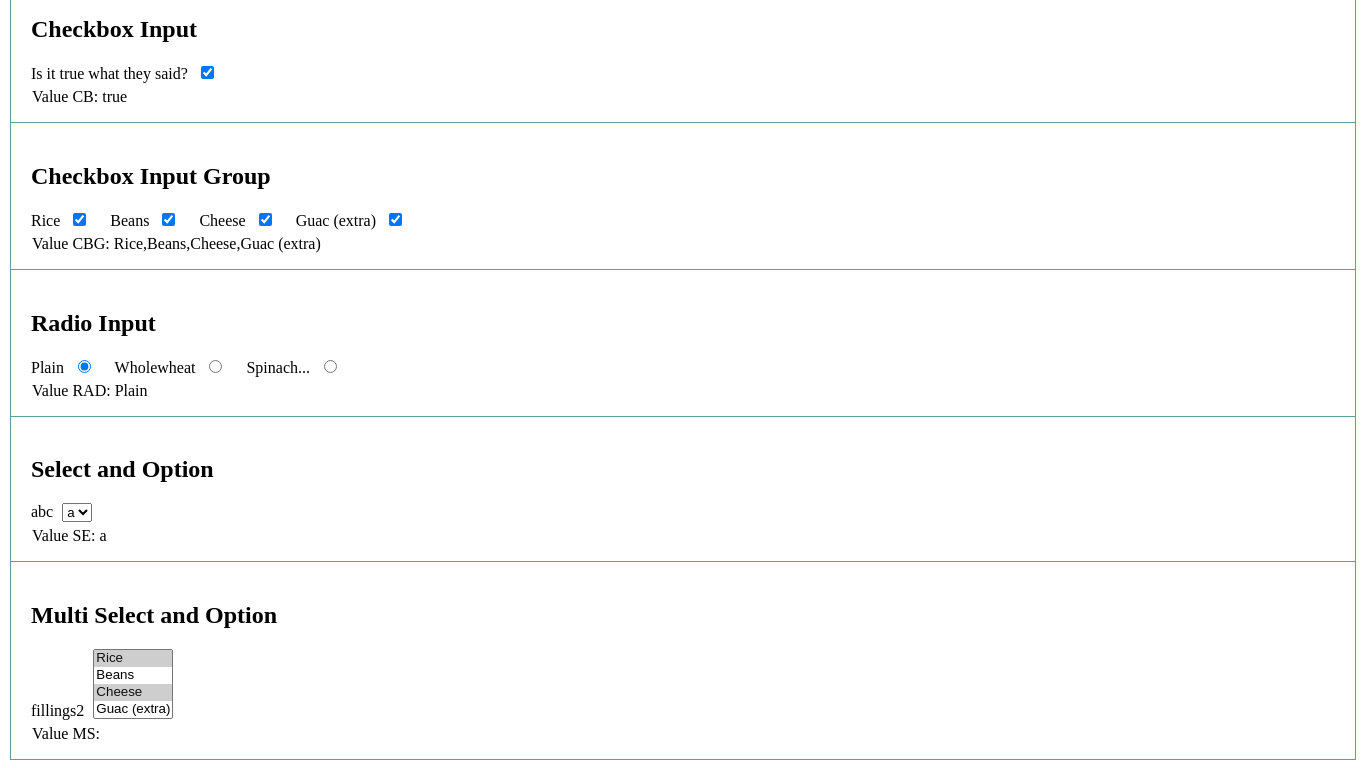
Test case: updating Multi-Select elements should work
(page scrolled)
Select "Rice" in the dropdown labelled "fillings2" at (133, 684), box [93, 649, 173, 719]
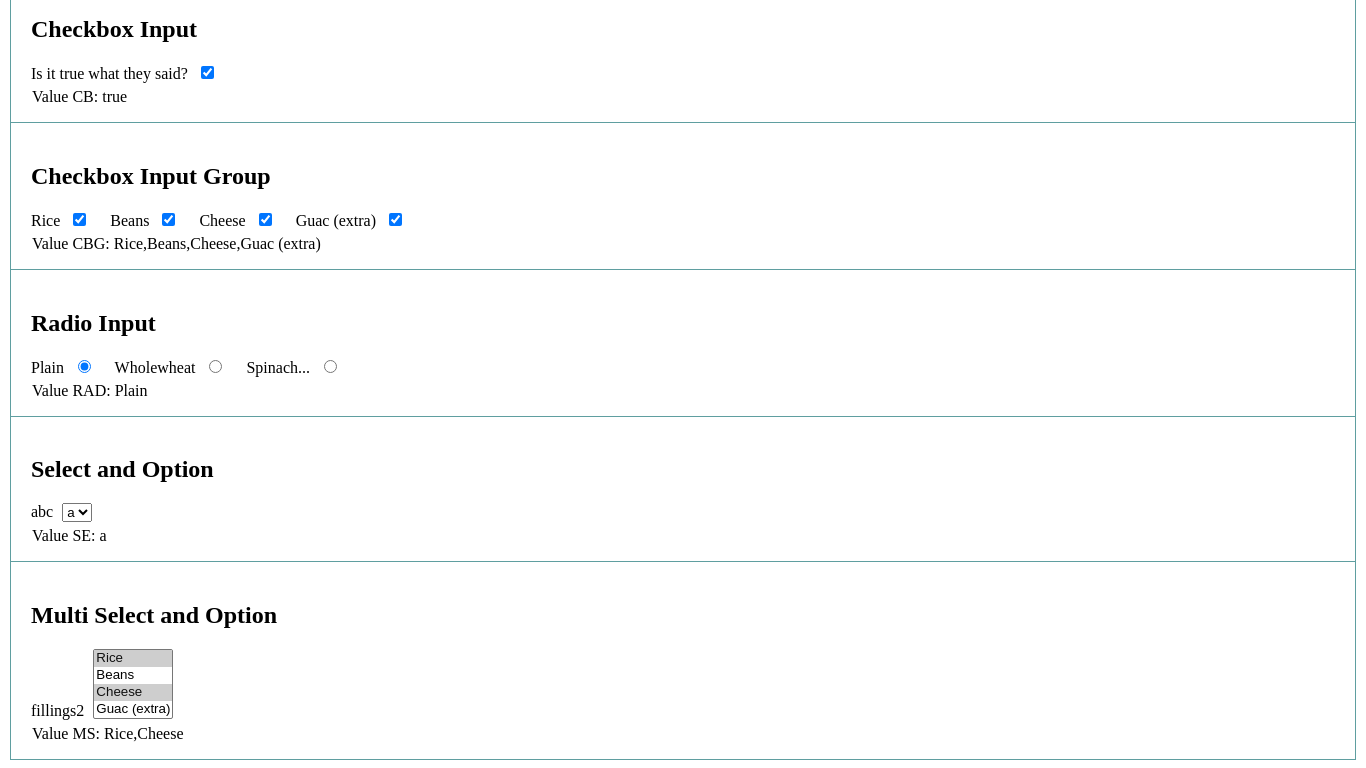
Expected: the text "Value MS: Rice,Cheese" is shown, [32, 725, 184, 742]
